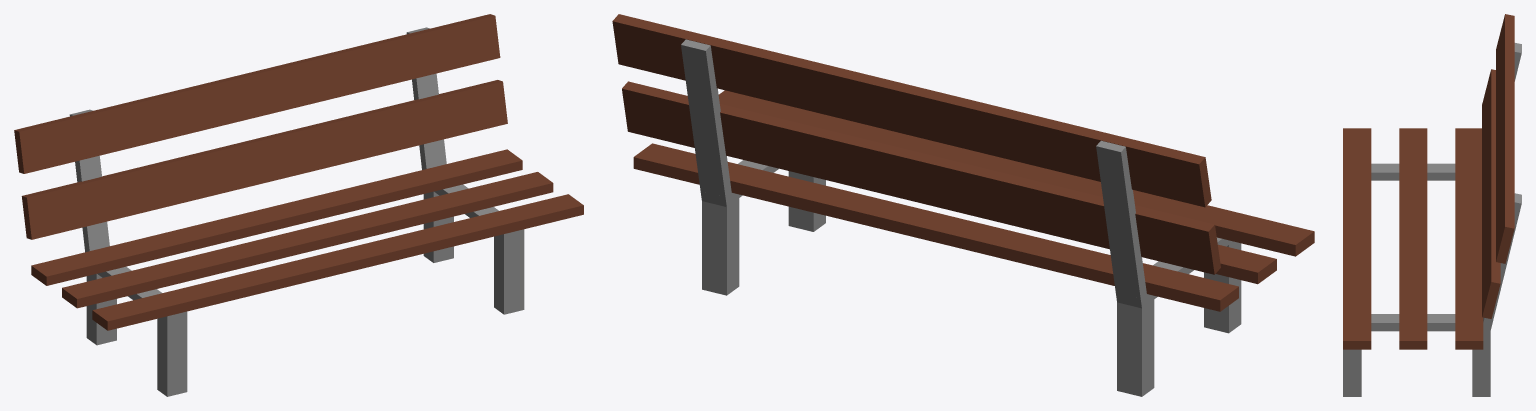
Rendered from Banc1.fbx.
The picture shows the model from 3 angles, left to right: view 1: azimuth 30°, elevation 25°; view 2: azimuth 150°, elevation 25°; view 3: azimuth 270°, elevation 25°; orthographic projection. The views are drawn at different scales.
Visible parts, largest first — view 1: Cube.007; view 2: Cube.007; view 3: Cube.007.
Boxes of the visible parts, <box> form: Cube.007: <box>14,14,583,396</box>; Cube.007: <box>612,14,1314,396</box>; Cube.007: <box>1343,14,1521,396</box>.
Size of the model in its own units: 528 by 228 by 187.
